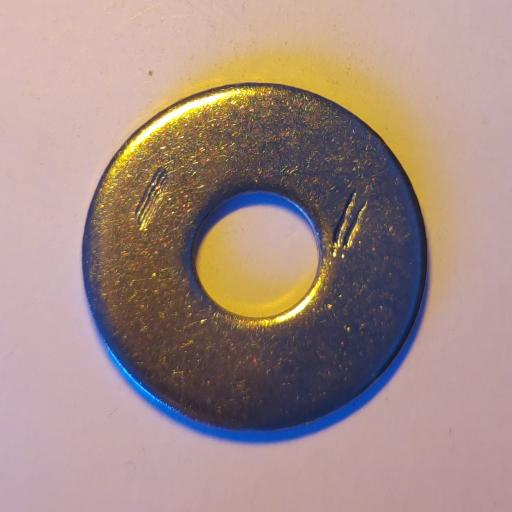scratch: (332, 188, 368, 259), (135, 167, 168, 231)
